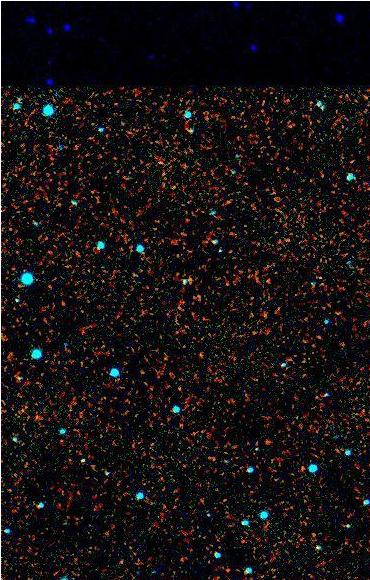star: (124, 187, 154, 217)
